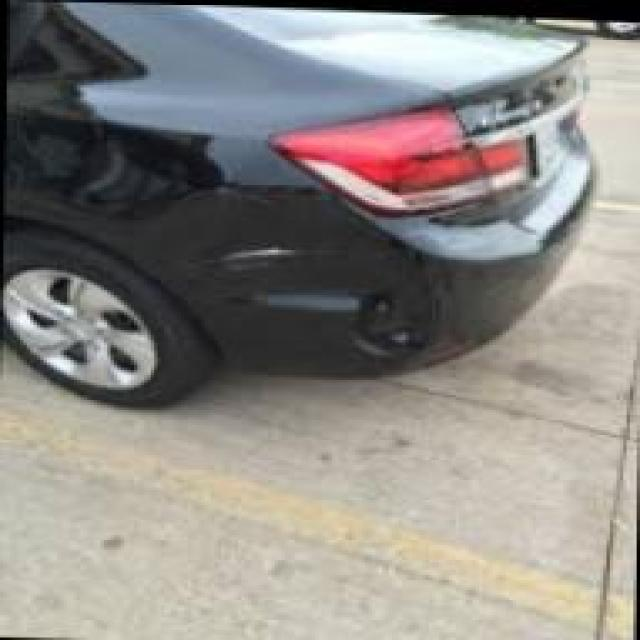Bumper: (288, 280, 469, 371)
